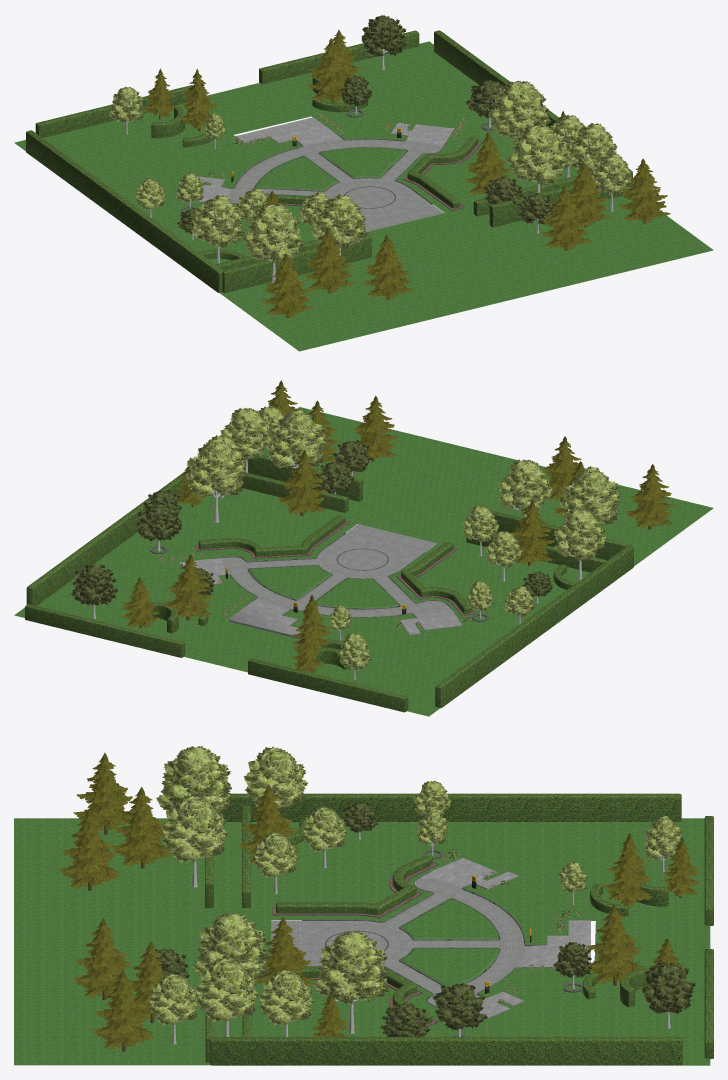
The model's file is KBH_Cul-de-sac_landscape.gltf.
3 views of the same model, one above another, from view 1: azimuth 30°, elevation 25°; view 2: azimuth 150°, elevation 25°; view 3: azimuth 270°, elevation 25° (orthographic). The views are drawn at different scales.
Parts seen in each view (by area): view 1: Line21375, Box4510, Line21383, Line21373, tree4_leaves_020, tree4_leaves_008, tree4_leaves_023, Box4502, Box7729, tree4_leaves_019, tree4_leaves_003, Box4505 (+34 smaller); view 2: Line21375, Box4510, Line21383, Box7733, Line21373, Box4562, Box4563, tree4_leaves_023, tree4_leaves_020, tree4_leaves_008, Box4505, Box4502 (+32 smaller); view 3: Line21375, Box7733, Box4510, Line21383, tree4_leaves_023, Line21373, tree4_leaves_008, tree4_leaves_019, tree4_leaves_020, Box4502, tree4_leaves_024, tree4_leaves_003 (+37 smaller).
Part boxes in pixels (x1,y1,x2,y2): Line21375: (14,41,713,351); Box4510: (26,130,222,292); Line21383: (255,147,406,190); Line21373: (190,117,453,202); tree4_leaves_020: (506,124,570,186); tree4_leaves_008: (241,203,305,265); tree4_leaves_023: (487,80,551,137); Box4502: (227,139,441,203); Box7729: (222,235,371,293); tree4_leaves_019: (311,194,367,249); tree4_leaves_003: (191,195,245,247); Box4505: (325,178,431,220); Line21375: (14,407,713,716); Box4510: (435,545,633,707); Line21383: (248,565,399,608); Box7733: (26,470,187,605); Line21373: (181,558,462,639); Box4562: (248,658,408,712); Box4563: (25,604,185,657); tree4_leaves_023: (185,437,246,497); tree4_leaves_020: (266,408,326,468); tree4_leaves_008: (560,466,620,526); Box4505: (317,533,423,578); Box4502: (222,557,447,616); Line21375: (14,818,710,1065); Box7733: (210,1037,682,1065); Box4510: (218,793,681,821); Line21383: (400,899,499,986); tree4_leaves_023: (313,931,388,1003); Line21373: (420,858,590,1020); tree4_leaves_008: (156,746,231,813); tree4_leaves_019: (161,795,228,862); tree4_leaves_020: (192,912,267,979); Box4502: (415,878,527,1006); tree4_leaves_024: (195,957,259,1022); tree4_leaves_003: (243,746,307,808).
Bounding box in the file's own units: 63.31 × 16.83 × 75.62.
